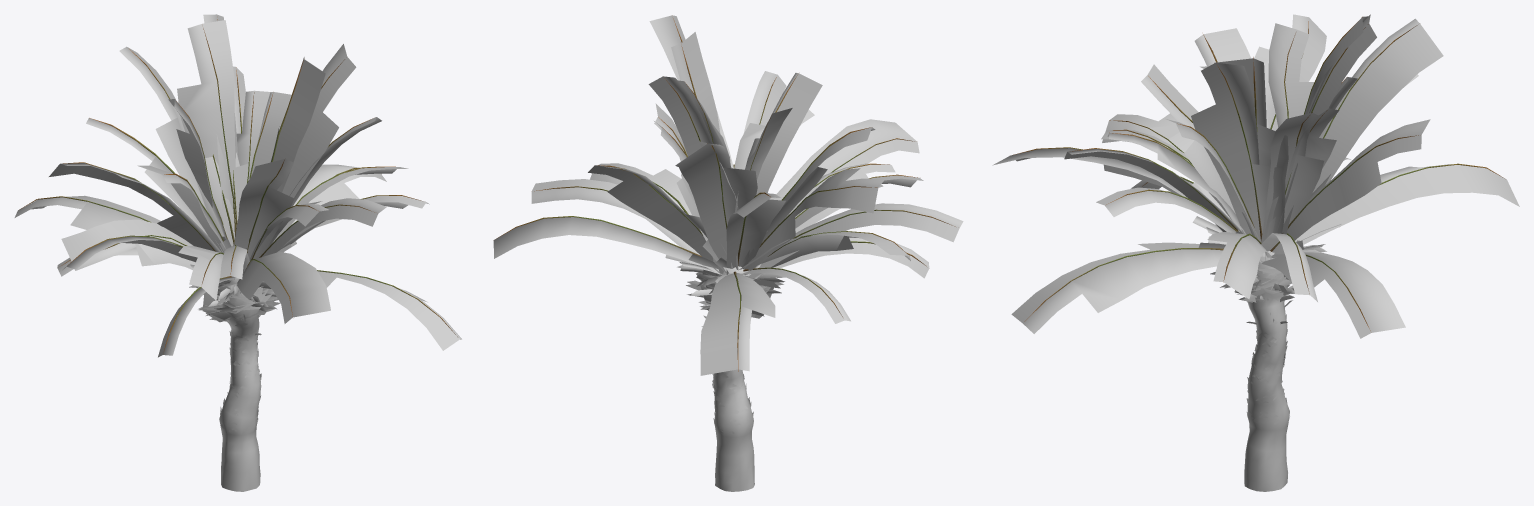
The model's file is Plant3_1_L1.fbx.
The picture shows the model from 3 angles, left to right: view 1: azimuth 30°, elevation 25°; view 2: azimuth 150°, elevation 25°; view 3: azimuth 270°, elevation 25°; orthographic projection. The views are drawn at different scales.
Visible parts, largest first — view 1: polySurface36; view 2: polySurface36; view 3: polySurface36.
Part boxes in pixels (x1,y1,x2,y2): polySurface36: [14, 14, 461, 491]; polySurface36: [493, 15, 963, 491]; polySurface36: [992, 14, 1519, 491].
Size of the model in its own units: 662 by 702 by 708.
